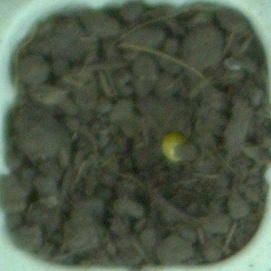chilli seed: (161, 131, 191, 163)
